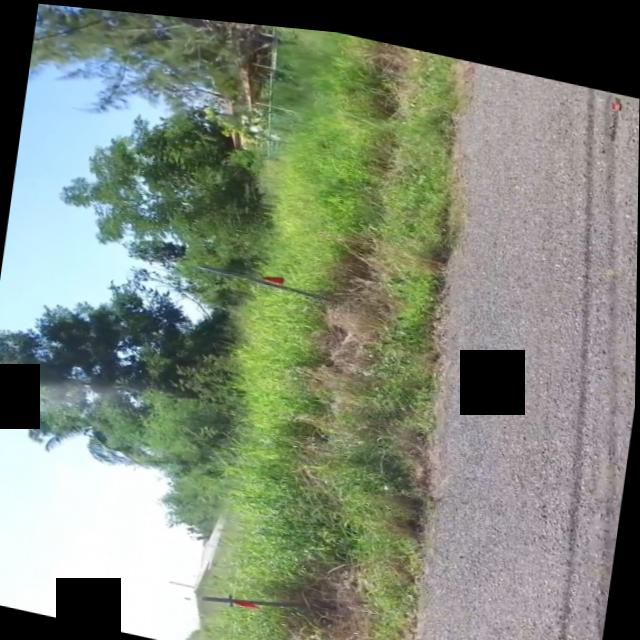Pole: (192, 257, 340, 306), (205, 570, 314, 623)
